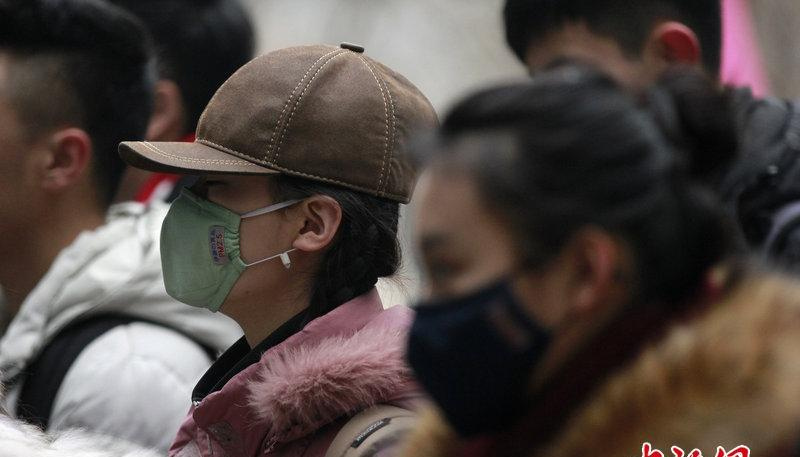OK: (408, 235, 583, 440), (149, 156, 316, 323)
